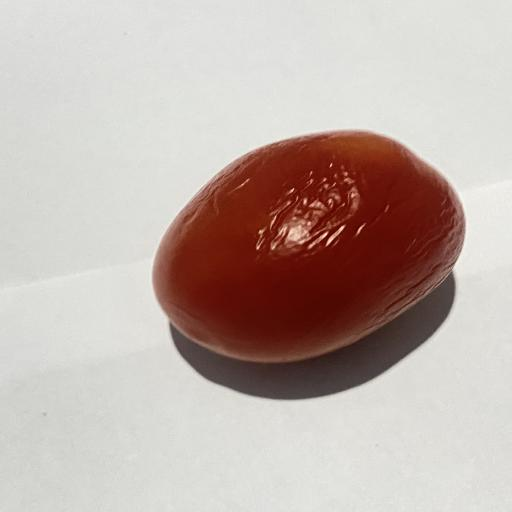spoiled: (154, 131, 465, 362)
